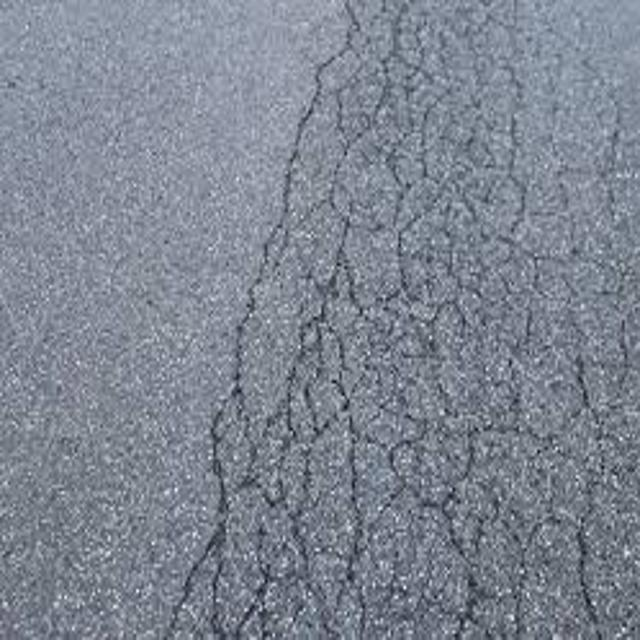Retak Buaya: (157, 0, 640, 640)
